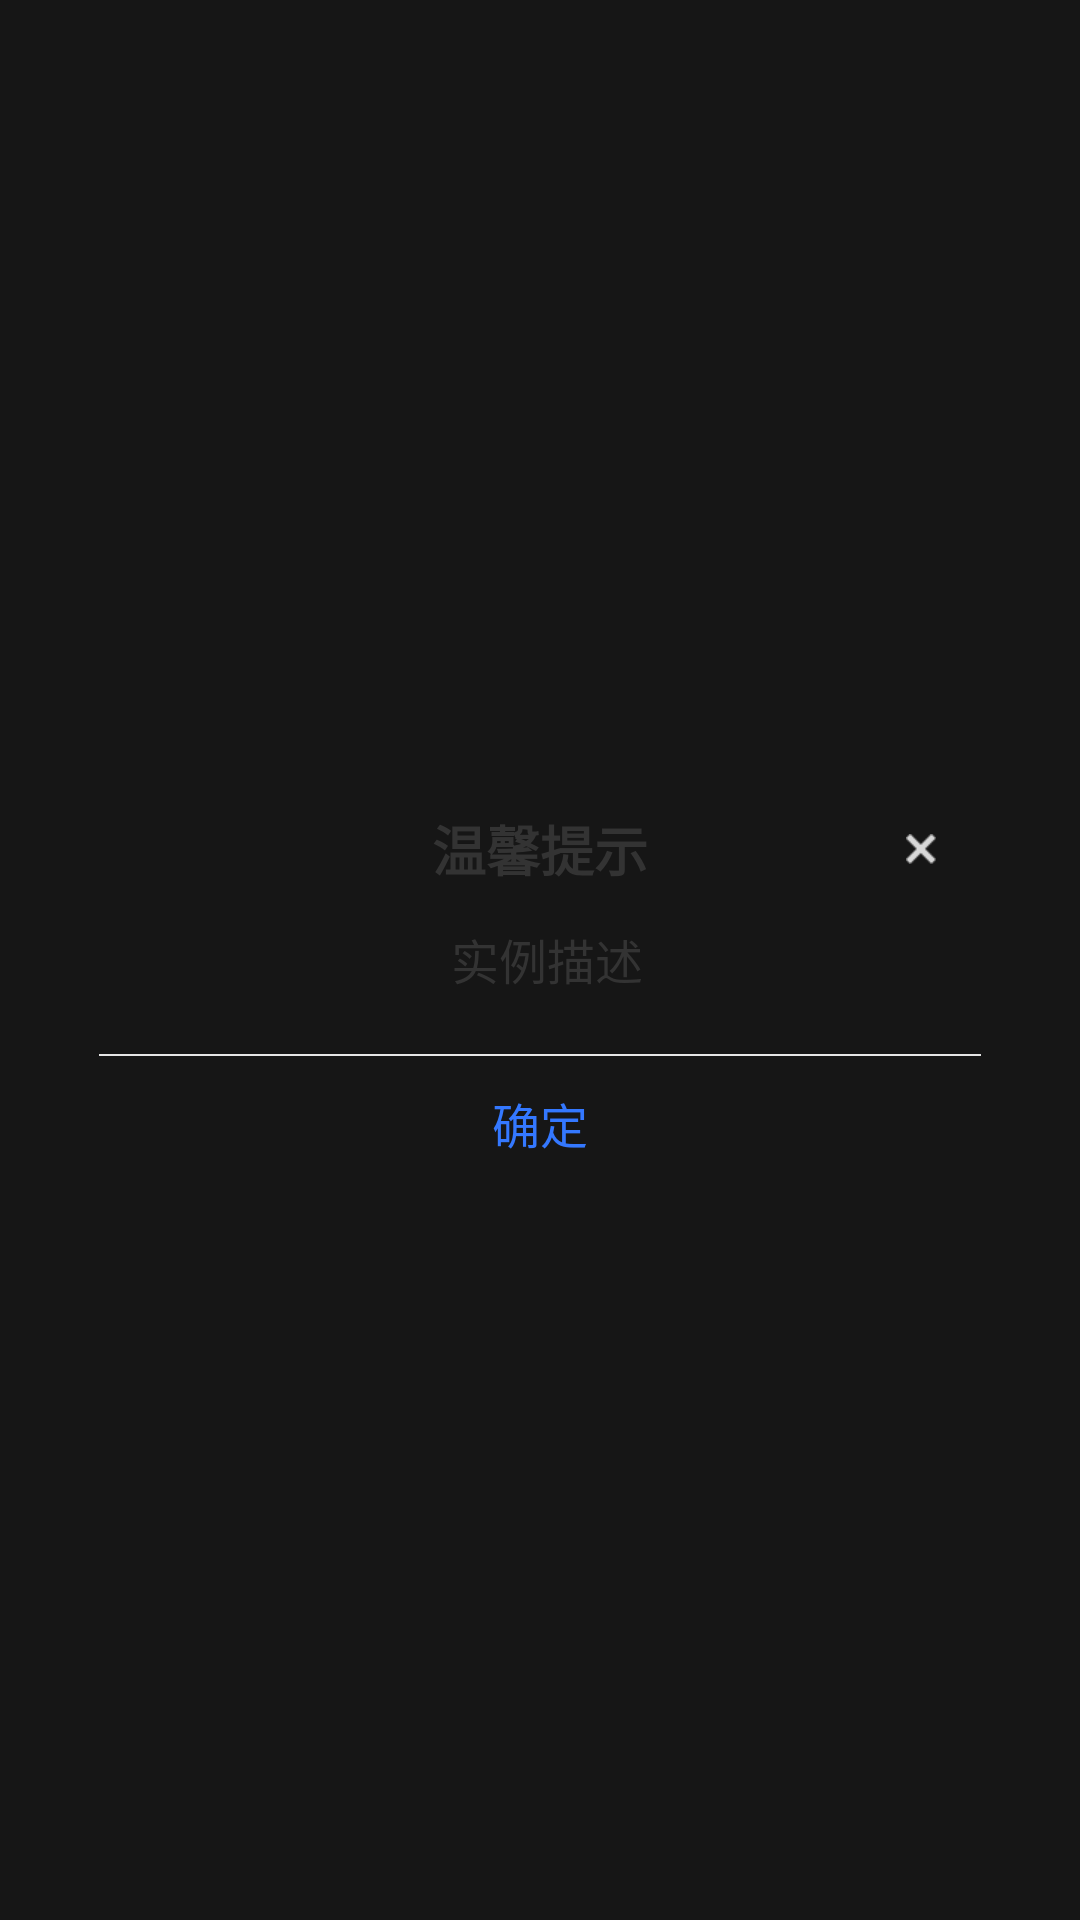

Where to tap for icons on this 1080w x 1920h app screen, as [x,y]:
ssp close: [921,849]
